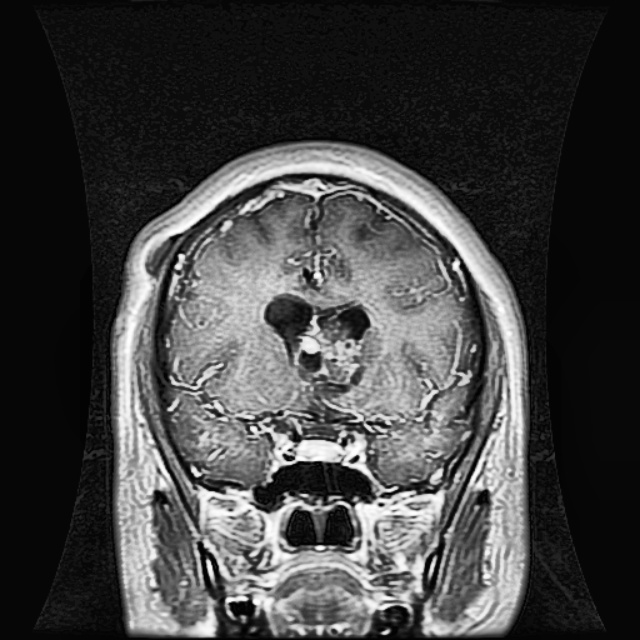Meningioma: (260, 293, 383, 397)
